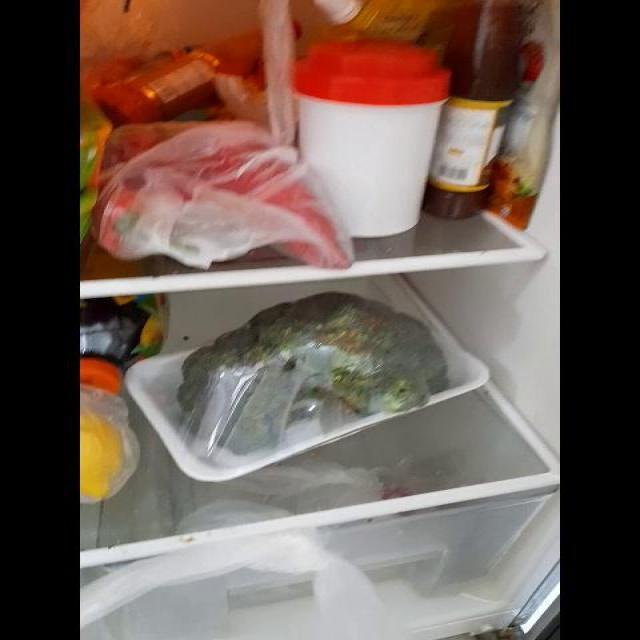broccoli: (187, 293, 449, 450)
